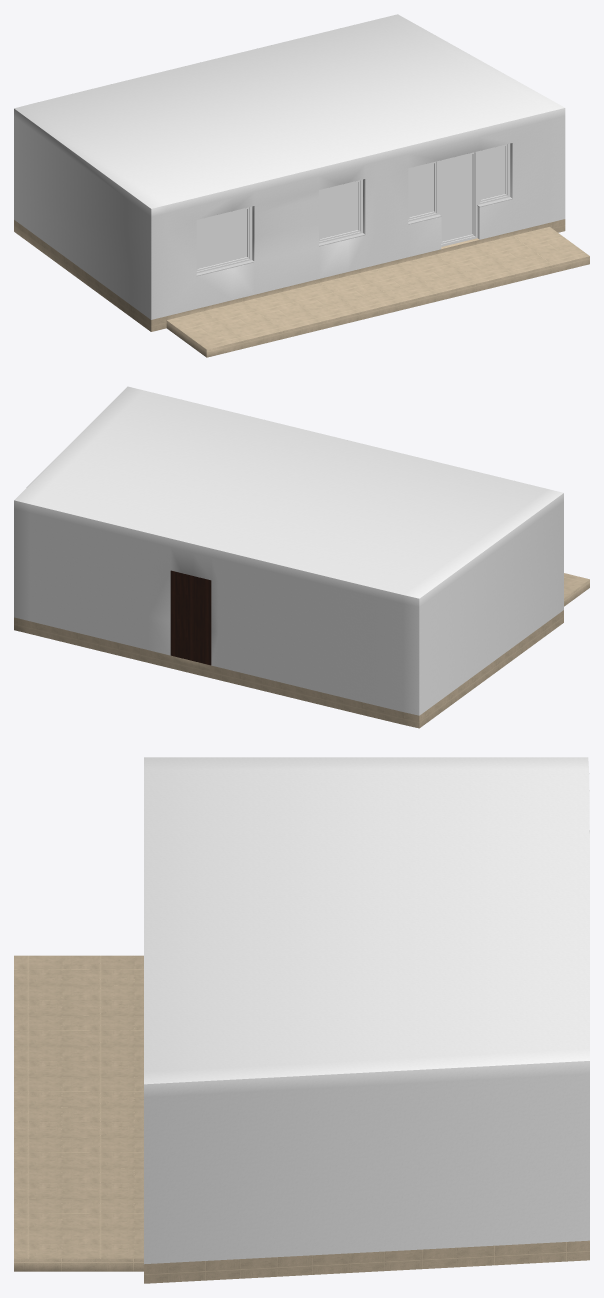
File: Ablewicza 15.glb
The picture shows the model from 3 angles, top to bottom: view 1: azimuth 30°, elevation 25°; view 2: azimuth 150°, elevation 25°; view 3: azimuth 270°, elevation 25°; orthographic projection. The views are drawn at different scales.
Parts seen in each view (by area): view 1: Flat, Window, Windowsill; view 2: Flat, Door; view 3: Flat.
Part boxes in pixels (x1=…): Flat: x1=14, y1=14, x2=589, y2=357; Window: x1=196, y1=143, x2=510, y2=273; Windowsill: x1=196, y1=197, x2=512, y2=276; Flat: x1=14, y1=386, x2=589, y2=728; Door: x1=170, y1=570, x2=211, y2=665; Flat: x1=14, y1=757, x2=589, y2=1283.
Bounding box in the file's own units: 10.72 × 3.05 × 7.98.
38 materials, 12 textured.
